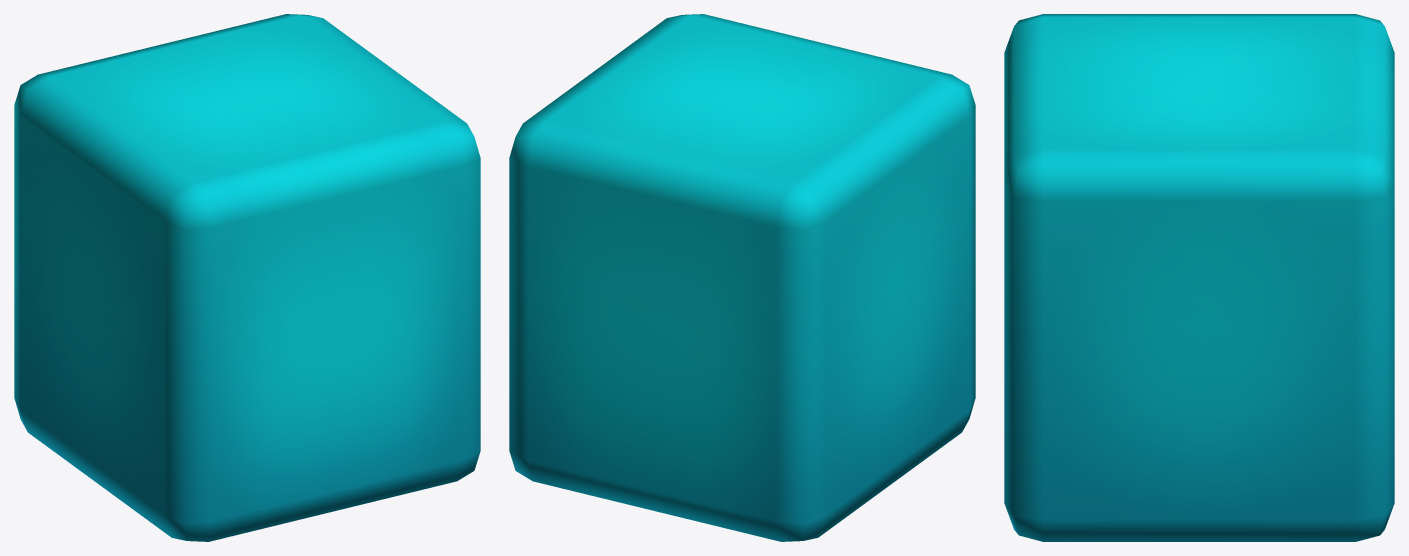
File: FX_box_turquoise.fbx
3 renders of one model, left to right at view 1: azimuth 30°, elevation 25°; view 2: azimuth 150°, elevation 25°; view 3: azimuth 270°, elevation 25°, orthographic. The views are drawn at different scales.
Visible parts, largest first — view 1: FX_box_turquoise; view 2: FX_box_turquoise; view 3: FX_box_turquoise.
Part boxes in pixels (<box>): FX_box_turquoise: <box>14,14,480,541</box>; FX_box_turquoise: <box>509,14,975,541</box>; FX_box_turquoise: <box>1004,14,1394,541</box>.
Size of the model in its own units: 99.82 by 110 by 100.
Materials: 1 (1 with a texture image).
